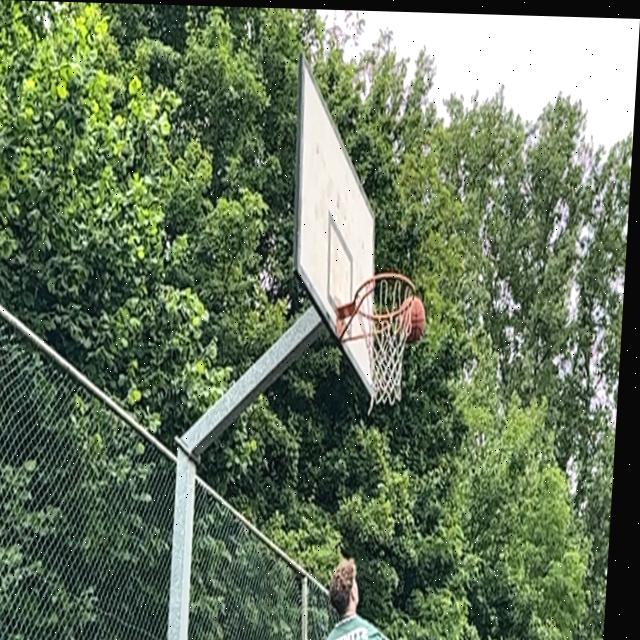Basketball: (397, 297, 427, 342)
